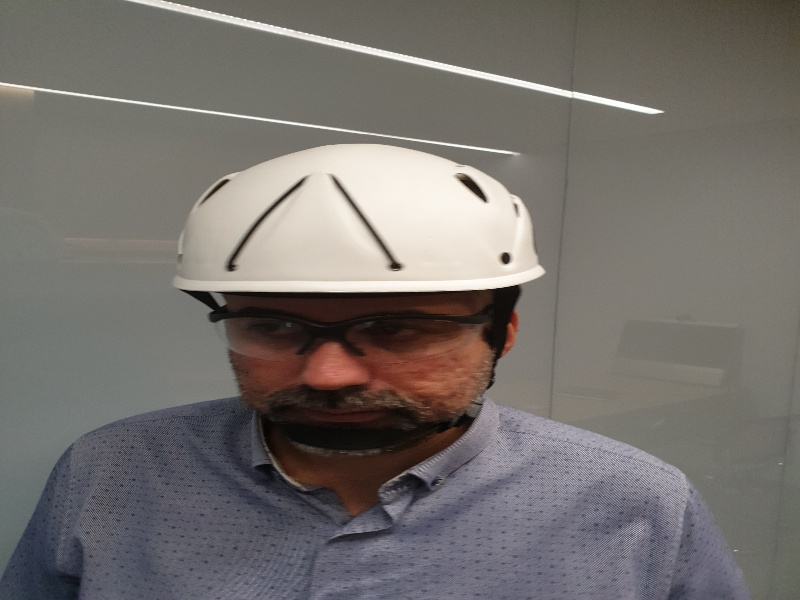Baret: (175, 143, 544, 290)
Gozluk: (210, 305, 510, 357)
